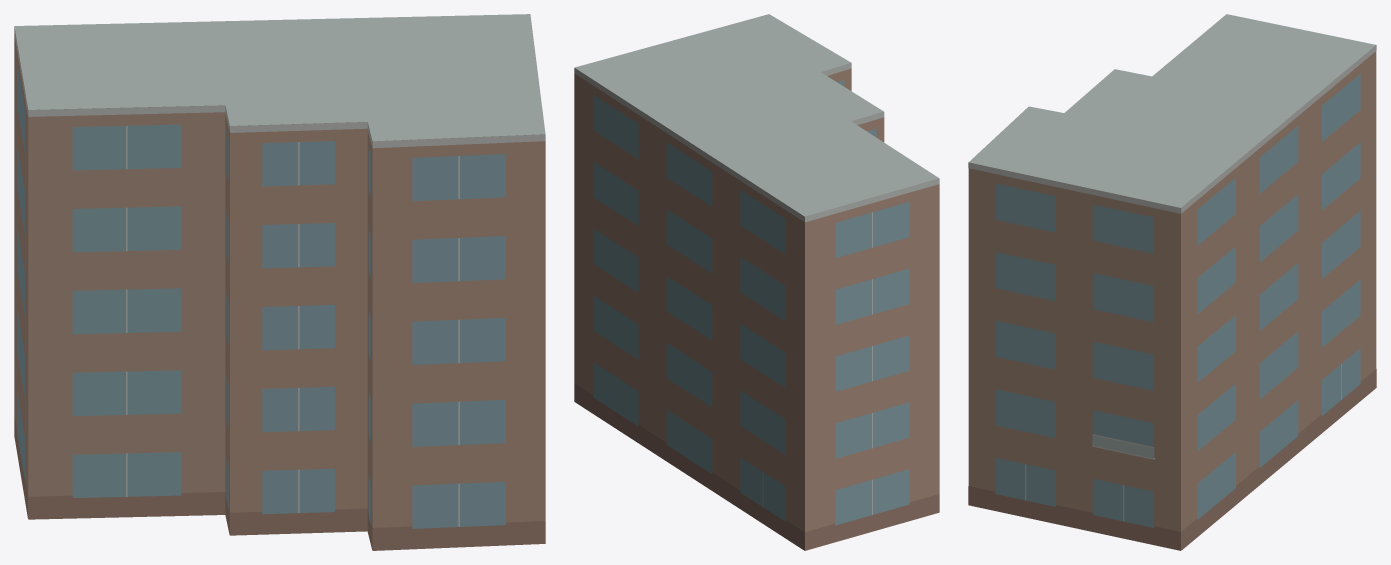
The model's file is survey-upis-32888536.glb.
3 renders of one model, left to right at view 1: azimuth 30°, elevation 25°; view 2: azimuth 150°, elevation 25°; view 3: azimuth 270°, elevation 25°, orthographic. The views are drawn at different scales.
Visible parts, largest first — view 1: survey-upis-32888536.tmp; view 2: survey-upis-32888536.tmp; view 3: survey-upis-32888536.tmp.
Boxes of the visible parts, x1=… form: survey-upis-32888536.tmp: x1=14, y1=14, x2=545, y2=550; survey-upis-32888536.tmp: x1=574, y1=14, x2=939, y2=550; survey-upis-32888536.tmp: x1=968, y1=14, x2=1376, y2=550.
Bounding box in the file's own units: 17.49 × 14.4 × 15.54.
